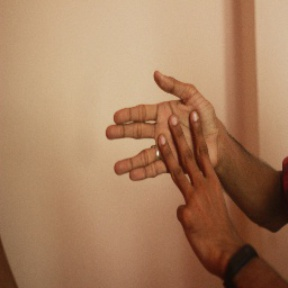M: (101, 70, 235, 203)
